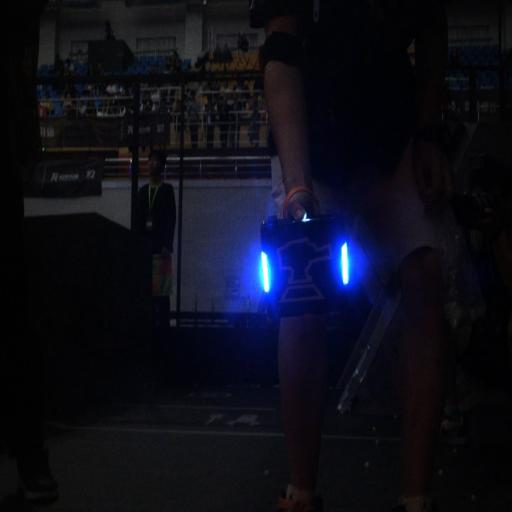target: (256, 216, 356, 319)
